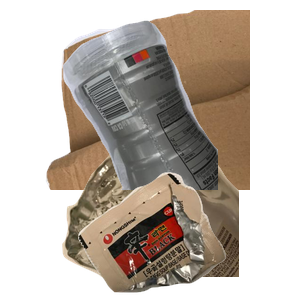cardboard: (43, 10, 283, 190)
glass: (60, 120, 300, 300)
plastic: (60, 18, 300, 198)
trash: (76, 170, 300, 300)
